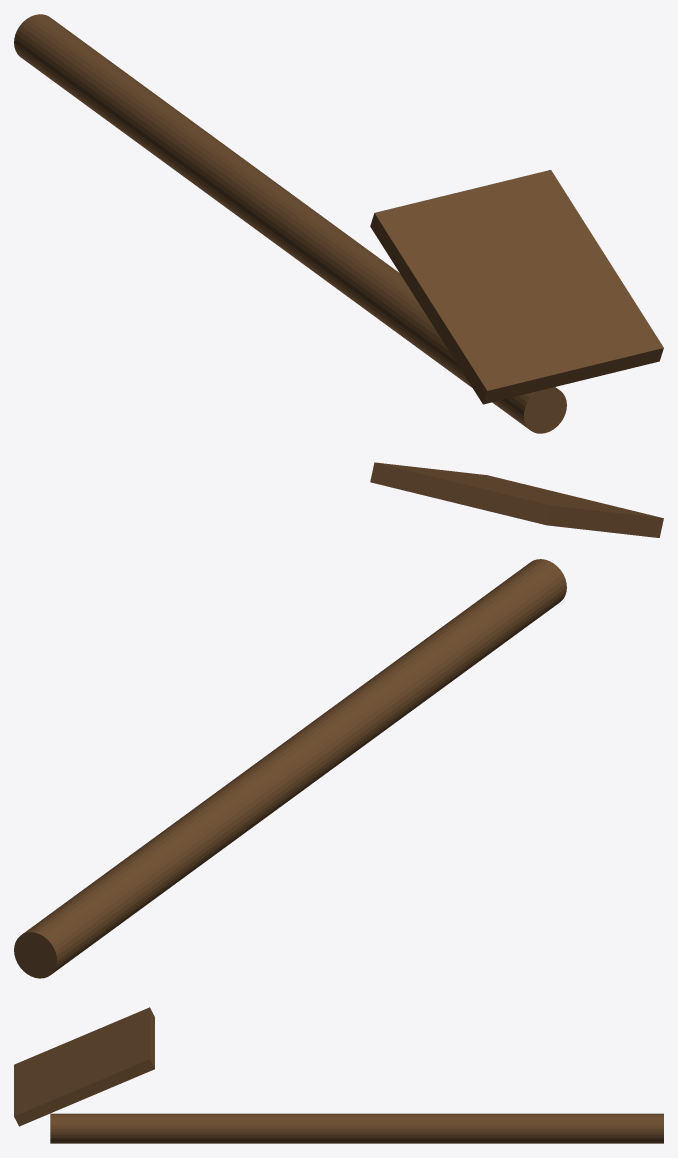
Rendered from prop_cangkul.obj.
3 views of the same model, one above another, from view 1: azimuth 30°, elevation 25°; view 2: azimuth 150°, elevation 25°; view 3: azimuth 270°, elevation 25° (orthographic). The views are drawn at different scales.
Visible parts, largest first — view 1: prop_cangkul; view 2: prop_cangkul; view 3: prop_cangkul.
Part boxes in pixels (x1=…): prop_cangkul: x1=14, y1=14, x2=663, y2=433; prop_cangkul: x1=14, y1=462, x2=663, y2=978; prop_cangkul: x1=14, y1=1007, x2=663, y2=1143.
Size of the model in its own units: 0.18 by 0.1766 by 0.9535.
